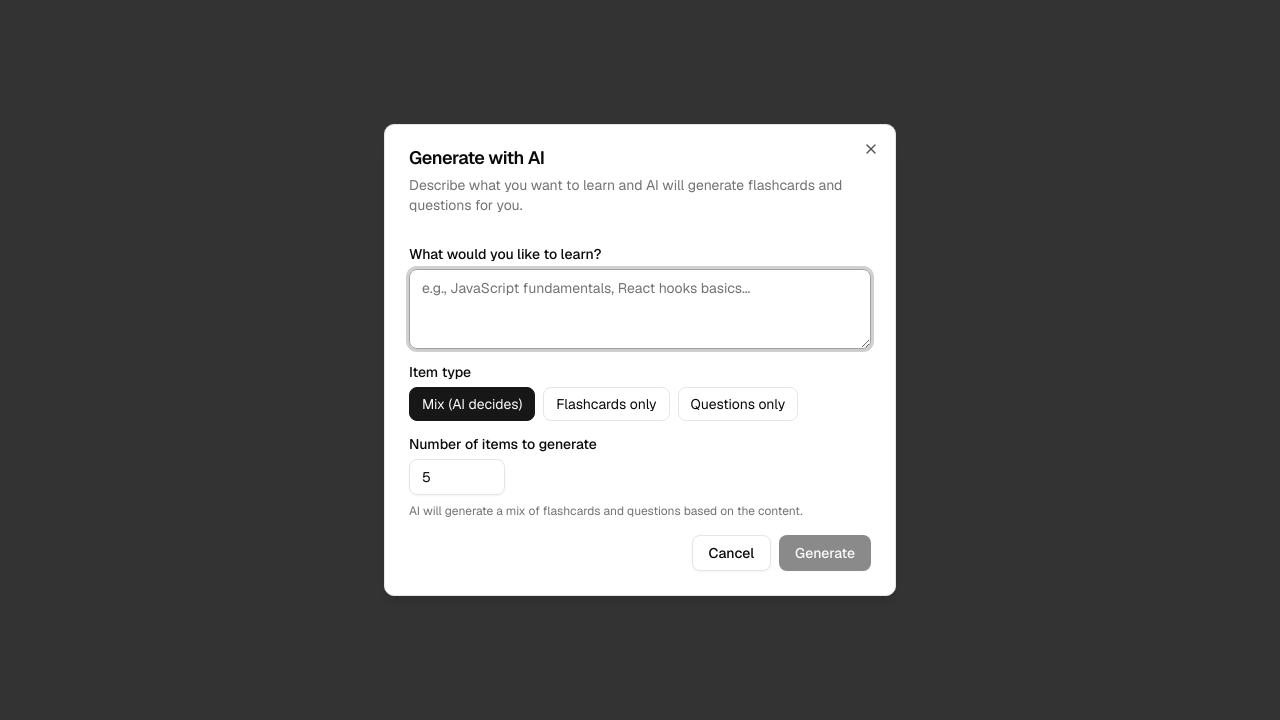
Test: AIGenerateModal › review phase › shows review phase after successful generation
This screenshot has width=1280, height=720.
Type "Test prompt" into the text box labelled "What would you like to learn?" at coordinates (640, 309), box x1=409 y1=269 x2=871 y2=349
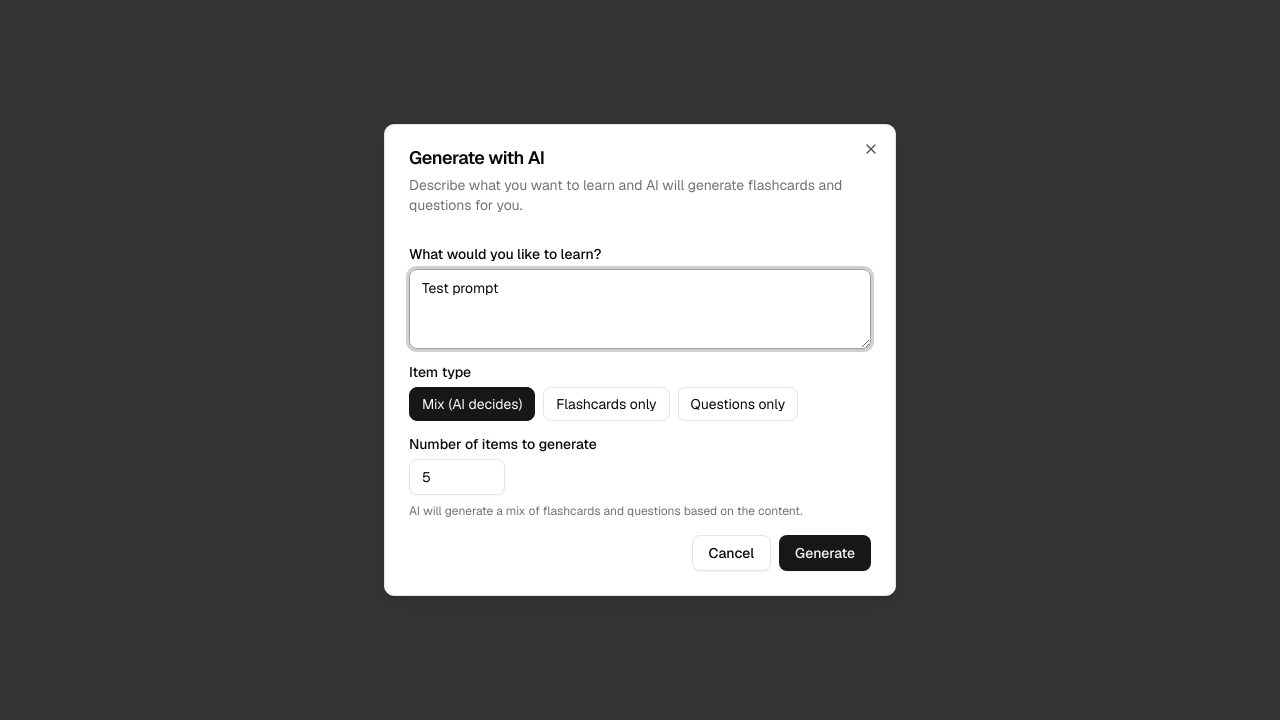
Click the button "Generate" at coordinates (825, 553), box x1=779 y1=535 x2=871 y2=571
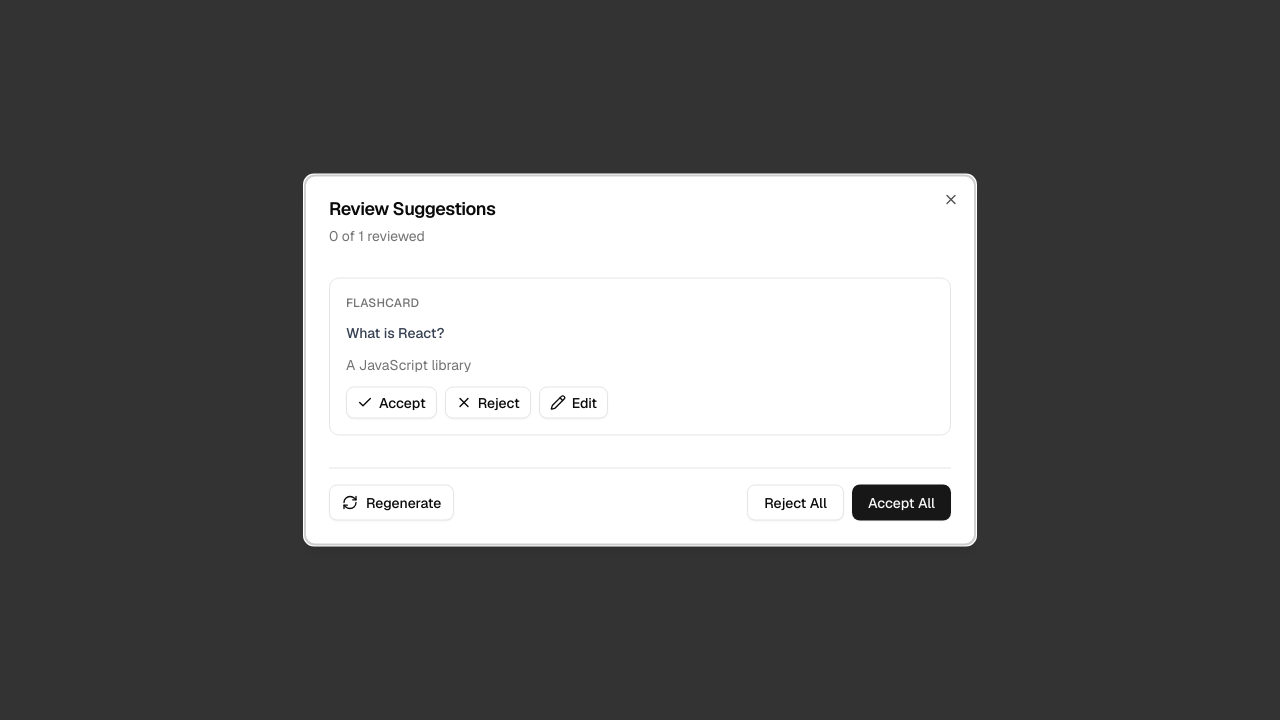
Result: the heading "Review Suggestions" is shown at x1=329 y1=196 x2=495 y2=220
